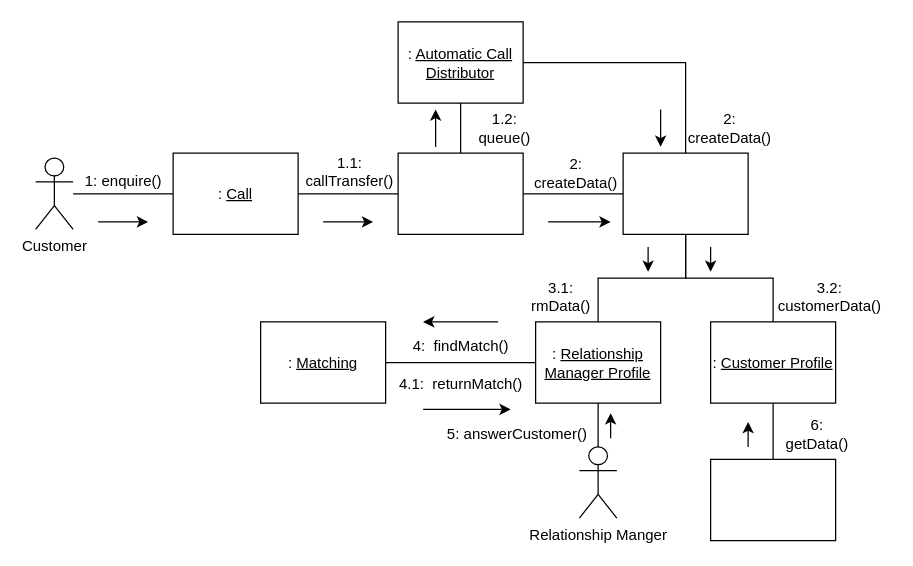
This 913x566 diagram has some shape labels left out. Each missing label, with the centre of its shape:
: Call Management Centre: [460,193]
: Database: [772,499]
: Profiler Tool: [685,193]
